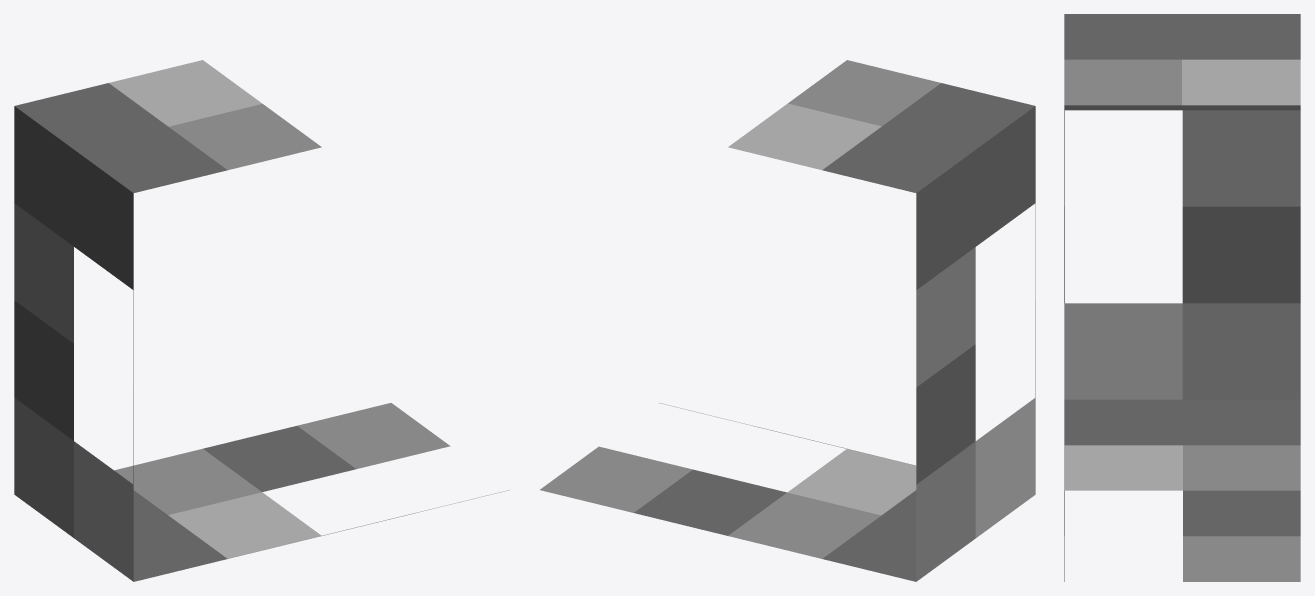
The model's file is R_Leg_ScaleMail.glb.
3 renders of one model, left to right at view 1: azimuth 30°, elevation 25°; view 2: azimuth 150°, elevation 25°; view 3: azimuth 270°, elevation 25°, orthographic.
Parts seen in each view (by area): view 1: R_Leg_ScaleMail.001; view 2: R_Leg_ScaleMail.001; view 3: R_Leg_ScaleMail.001.
Boxes of the visible parts, x1=… form: R_Leg_ScaleMail.001: x1=14, y1=60, x2=509, y2=581; R_Leg_ScaleMail.001: x1=540, y1=60, x2=1035, y2=581; R_Leg_ScaleMail.001: x1=1064, y1=14, x2=1300, y2=581.
Size of the model in its own units: 28.69 by 28.28 by 15.73.
1 material, 1 textured.
